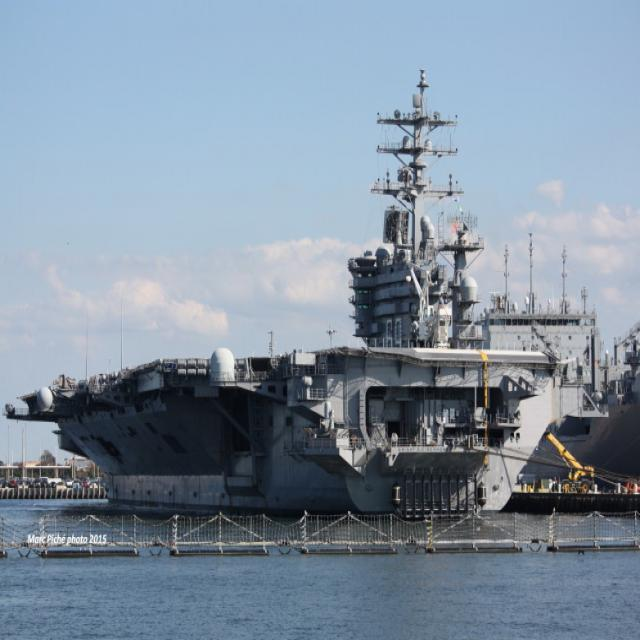Portanaves: (6, 55, 601, 529)
